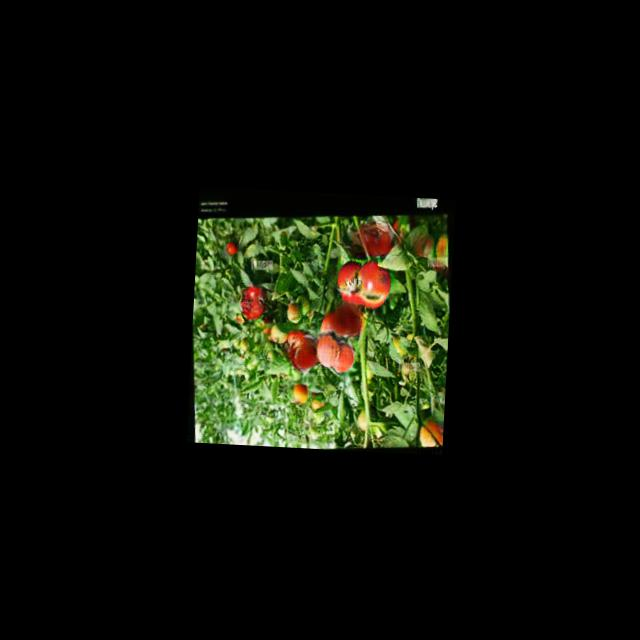tomato: (355, 260, 392, 307), (336, 260, 362, 304), (239, 286, 265, 320)
